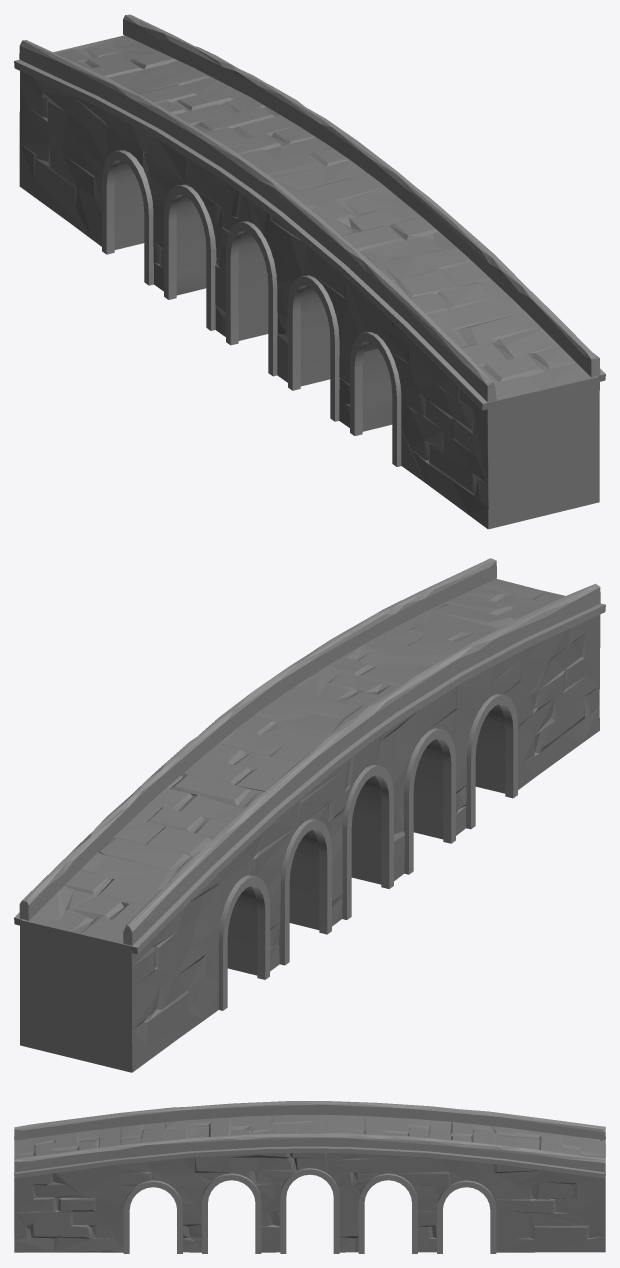
The model's file is bridge_a.FBX.
3 renders of one model, top to bottom at view 1: azimuth 30°, elevation 25°; view 2: azimuth 150°, elevation 25°; view 3: azimuth 270°, elevation 25°, orthographic. The views are drawn at different scales.
Visible parts, largest first — view 1: bridge_a; view 2: bridge_a; view 3: bridge_a.
Boxes of the visible parts, box(x1,y1,x2,y2) form: bridge_a: box(14, 14, 605, 529); bridge_a: box(14, 558, 605, 1072); bridge_a: box(14, 1101, 605, 1253).
Size of the model in its own units: 5.47 by 7.93 by 36.04.
